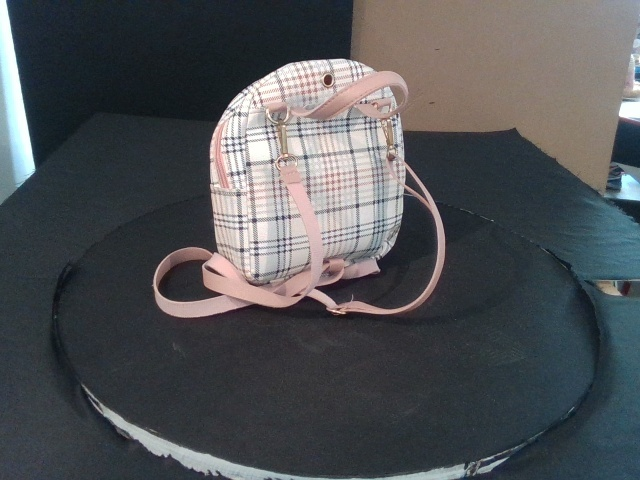bag: (209, 59, 406, 286)
